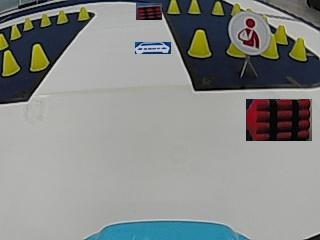cone: (188, 29, 211, 58), (29, 43, 49, 71), (2, 50, 19, 76), (290, 36, 306, 61), (262, 35, 278, 59), (226, 41, 245, 58), (275, 24, 287, 43), (56, 9, 68, 24), (10, 24, 22, 39), (167, 1, 180, 14), (212, 1, 224, 15), (77, 7, 89, 20), (188, 1, 200, 14), (0, 32, 9, 49), (40, 13, 51, 26), (23, 17, 34, 30)
patient: (231, 12, 268, 52)
